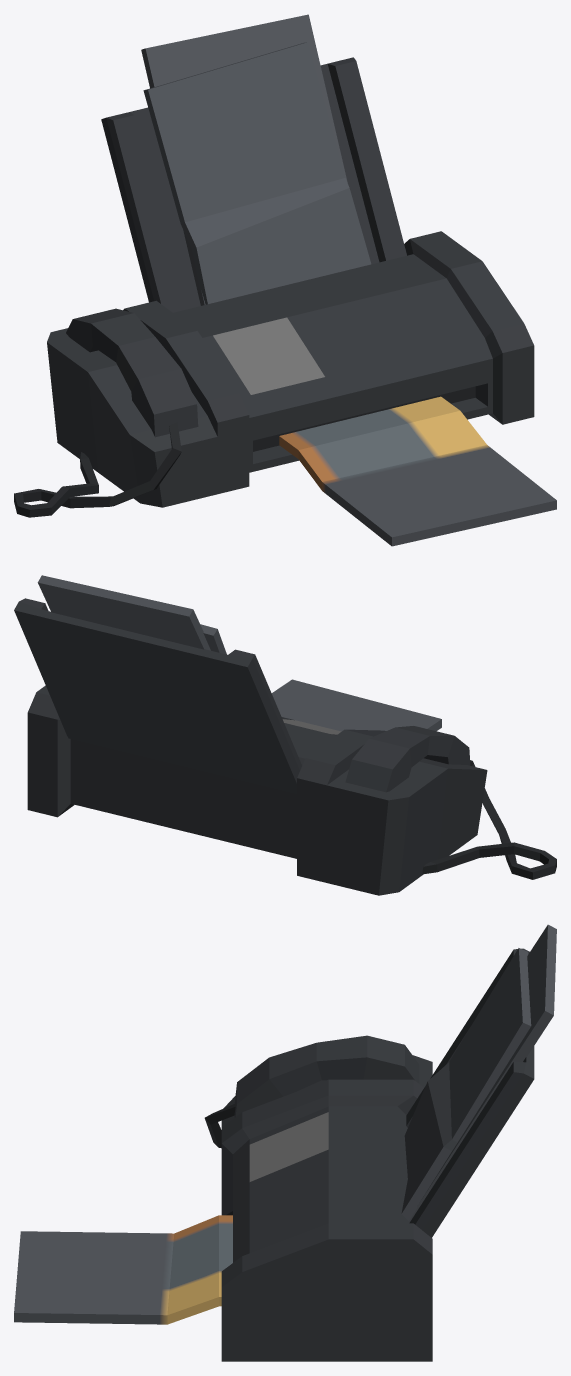
File: FaxMachine.fbx
The picture shows the model from 3 angles, top to bottom: view 1: azimuth 30°, elevation 25°; view 2: azimuth 150°, elevation 25°; view 3: azimuth 270°, elevation 25°; orthographic projection. The views are drawn at different scales.
Visible parts, largest first — view 1: FaxMachine; view 2: FaxMachine; view 3: FaxMachine.
Part boxes in pixels (x1=…): FaxMachine: x1=14, y1=14, x2=556, y2=546; FaxMachine: x1=14, y1=575, x2=556, y2=895; FaxMachine: x1=14, y1=924, x2=556, y2=1361.
Size of the model in its own units: 66.49 by 40.77 by 62.08.
1 material, 1 textured.
